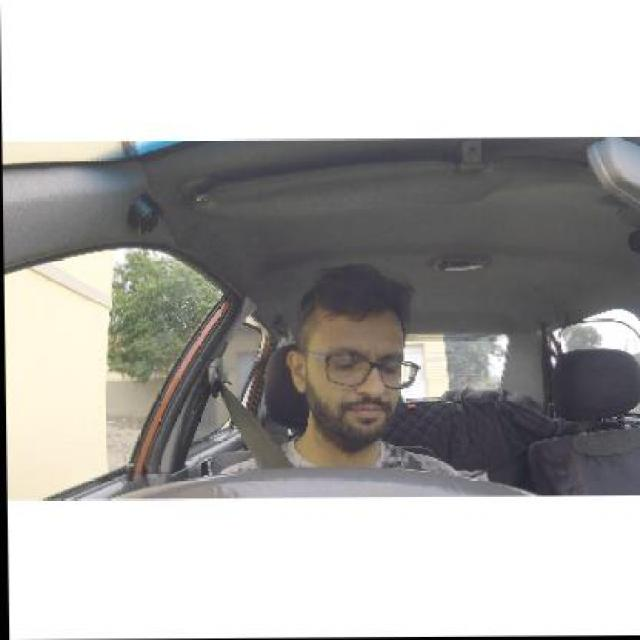drowsy: (287, 276, 418, 450)
